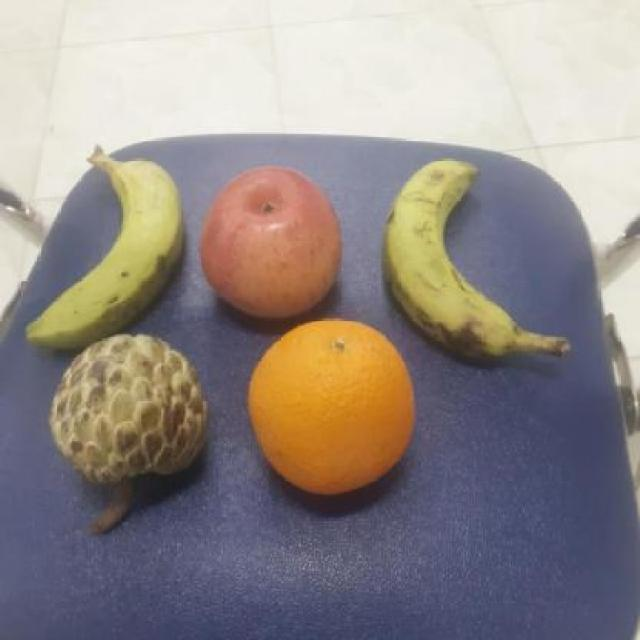apple: (194, 162, 346, 322)
banana: (15, 149, 187, 351), (378, 155, 524, 360)
oren: (243, 316, 419, 501)
sugar apple: (45, 328, 213, 488)
